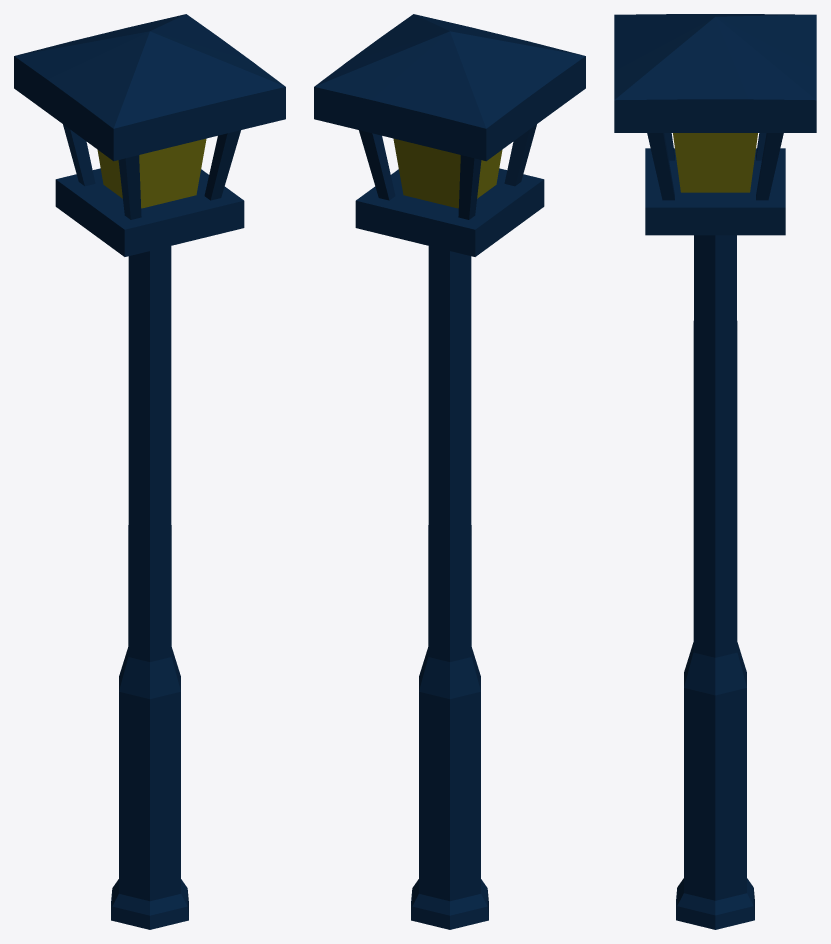
Rendered from streetlampv01.fbx.
3 views of the same model, side by side, from view 1: azimuth 30°, elevation 25°; view 2: azimuth 150°, elevation 25°; view 3: azimuth 270°, elevation 25° (orthographic).
Visible parts, largest first — view 1: Streetlamp, Streetlamp_light; view 2: Streetlamp, Streetlamp_light; view 3: Streetlamp, Streetlamp_light.
Boxes of the visible parts, left/top/right/bottom form: Streetlamp: left=14, top=14, right=285, bottom=929; Streetlamp_light: left=97, top=138, right=206, bottom=208; Streetlamp: left=314, top=14, right=585, bottom=929; Streetlamp_light: left=393, top=138, right=502, bottom=208; Streetlamp: left=614, top=14, right=816, bottom=929; Streetlamp_light: left=673, top=133, right=757, bottom=192.
Size of the model in its own units: 0.8312 by 4.05 by 0.8312.
